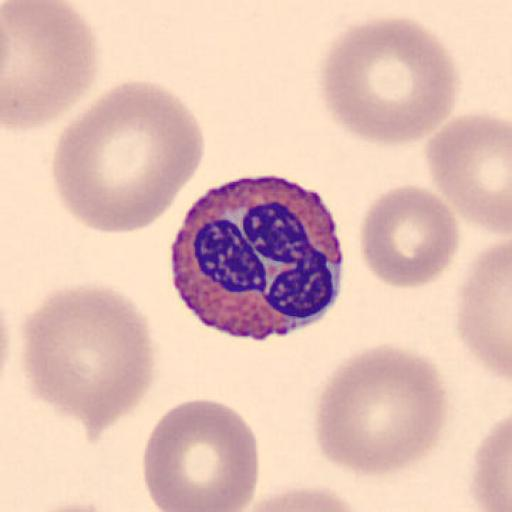RBC: (51, 78, 204, 235), (19, 280, 157, 435), (318, 14, 460, 147), (313, 342, 449, 476), (140, 396, 262, 512), (0, 0, 101, 134), (424, 110, 512, 236), (358, 184, 461, 290), (455, 236, 512, 380), (471, 412, 512, 512), (229, 484, 368, 512), (18, 499, 126, 512), (0, 290, 13, 390)
WBC: (167, 176, 346, 339)
